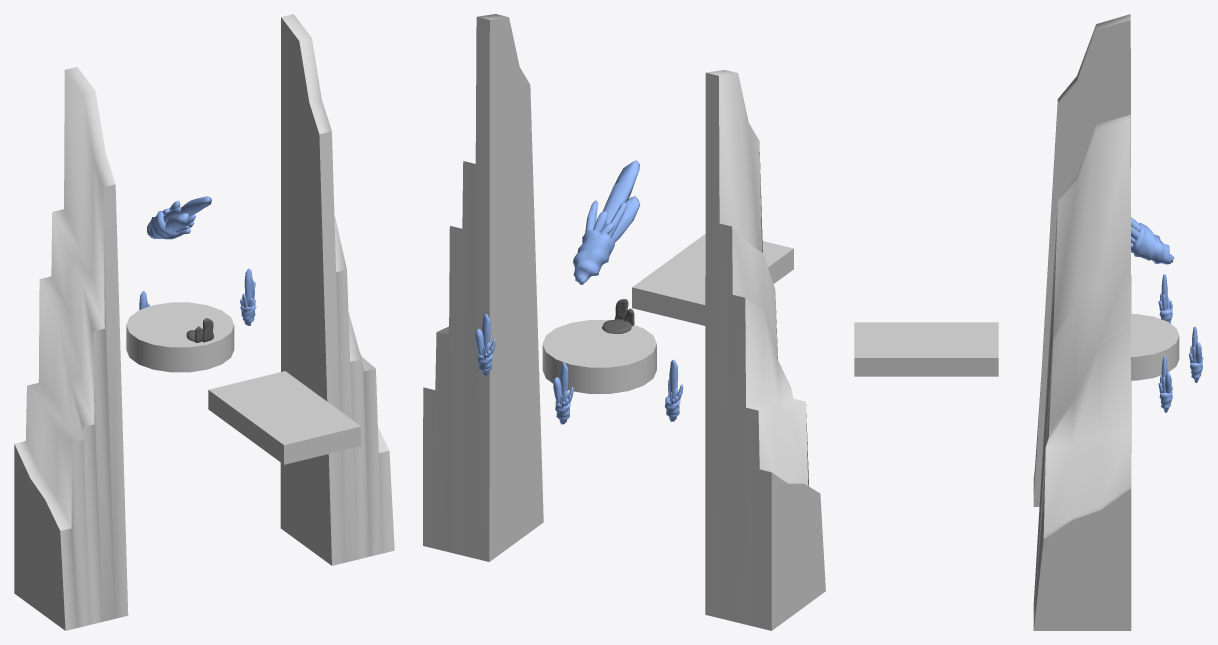
The model's file is pond shrine blockout.FBX.
3 renders of one model, left to right at view 1: azimuth 30°, elevation 25°; view 2: azimuth 150°, elevation 25°; view 3: azimuth 270°, elevation 25°, orthographic. The views are drawn at different scales.
Parts seen in each view (by area): view 1: Box002, Box001, Cylinder001; view 2: Box002, Cylinder001, Box001, Object048, Object038, Shrine_Rocks_low; view 3: Box002, Box001, Cylinder001, Object048.
Part boxes in pixels (bbox=[...]): Box002: bbox=[14, 14, 394, 630]; Box001: bbox=[208, 371, 360, 464]; Cylinder001: bbox=[126, 302, 234, 372]; Box002: bbox=[423, 14, 825, 630]; Cylinder001: bbox=[542, 320, 656, 393]; Box001: bbox=[632, 234, 793, 325]; Object048: bbox=[573, 230, 614, 284]; Object038: bbox=[602, 160, 639, 226]; Shrine_Rocks_low: bbox=[602, 299, 634, 333]; Box002: bbox=[1033, 14, 1131, 630]; Box001: bbox=[854, 322, 998, 376]; Cylinder001: bbox=[1131, 314, 1179, 380]; Object048: bbox=[1131, 223, 1174, 264].
Size of the model in its own units: 352 by 523 by 340.
